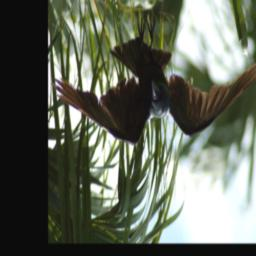Crow: (53, 16, 256, 148)
